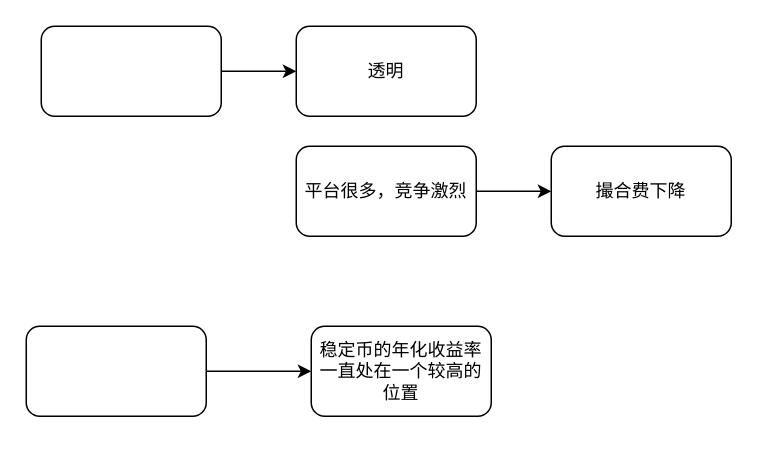
The diagram is 758 pixels wide and 462 high, and some of its shapes have lost their labels. The centre of each missing label's shape, as x and y in pixels:
"区块链" belongs at pixel 130 70.
"大家都知道区块链市场的机会很多，暴涨暴跌，因此借钱去炒币的人就特别多，所以在区块链上“借”的需求特别旺盛" belongs at pixel 115 370.
